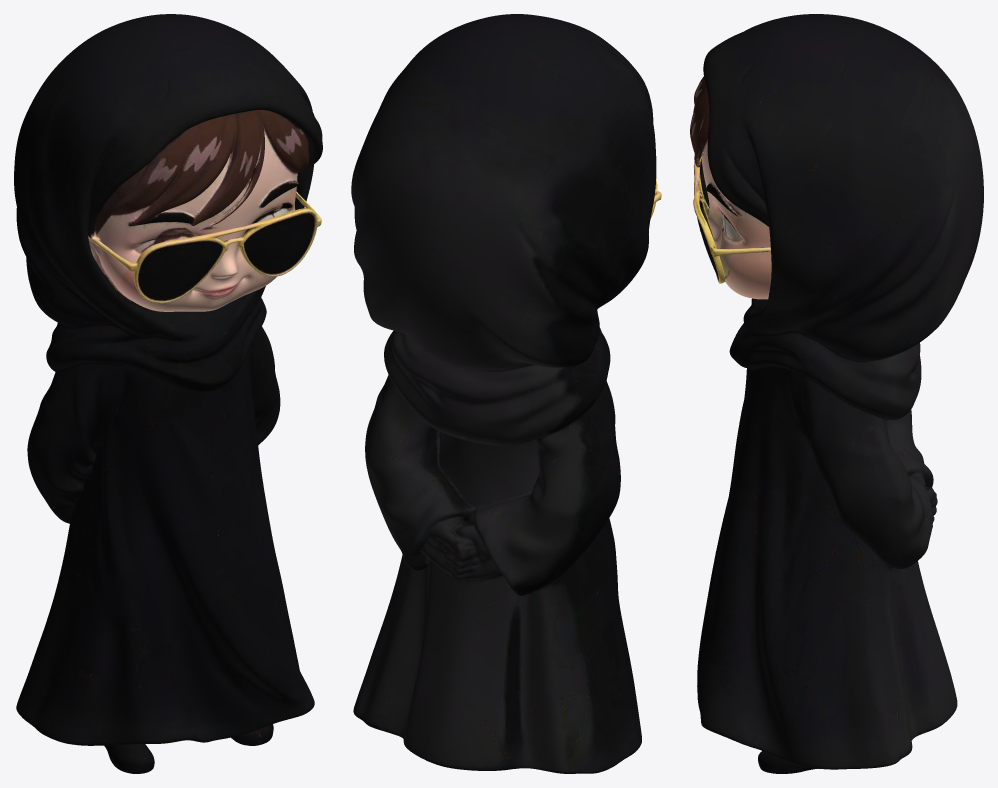
The model's file is mahra-cool-glasses.glb.
The picture shows the model from 3 angles, left to right: view 1: azimuth 30°, elevation 25°; view 2: azimuth 150°, elevation 25°; view 3: azimuth 270°, elevation 25°; orthographic projection.
Size of the model in its own units: 0.7254 by 1.9 by 0.709.
Materials: 1 (1 with a texture image).
